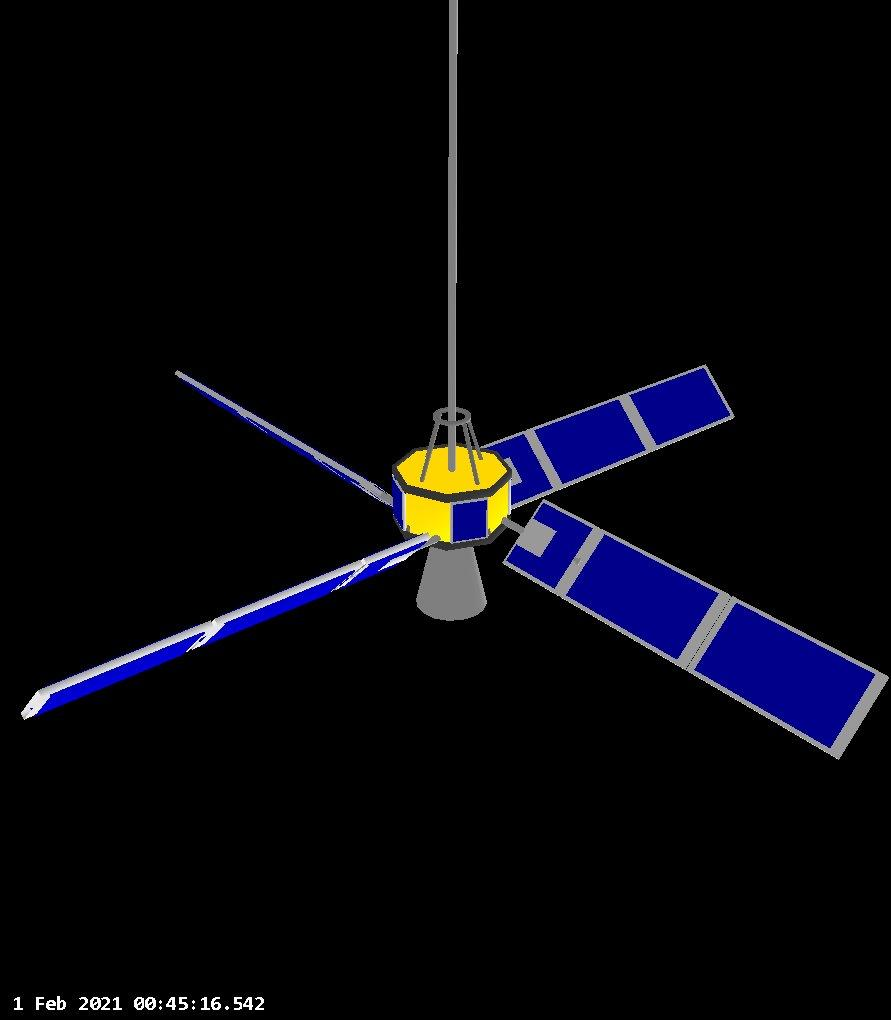antenna: (415, 0, 490, 484)
body: (392, 441, 510, 546)
solar: (498, 495, 891, 761), (18, 528, 431, 727), (476, 361, 738, 510), (170, 367, 395, 512), (449, 497, 489, 544), (391, 473, 407, 532)
thruster: (411, 543, 490, 624)
